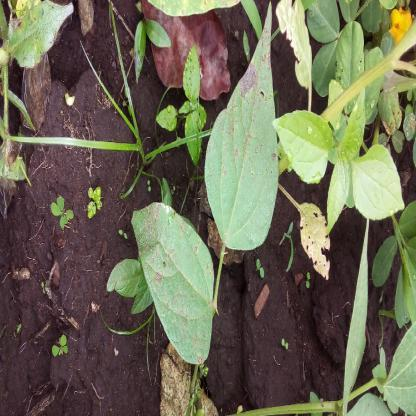Beans_Angular_LeafSpot: (204, 5, 274, 254), (132, 204, 222, 358), (4, 0, 79, 66)
